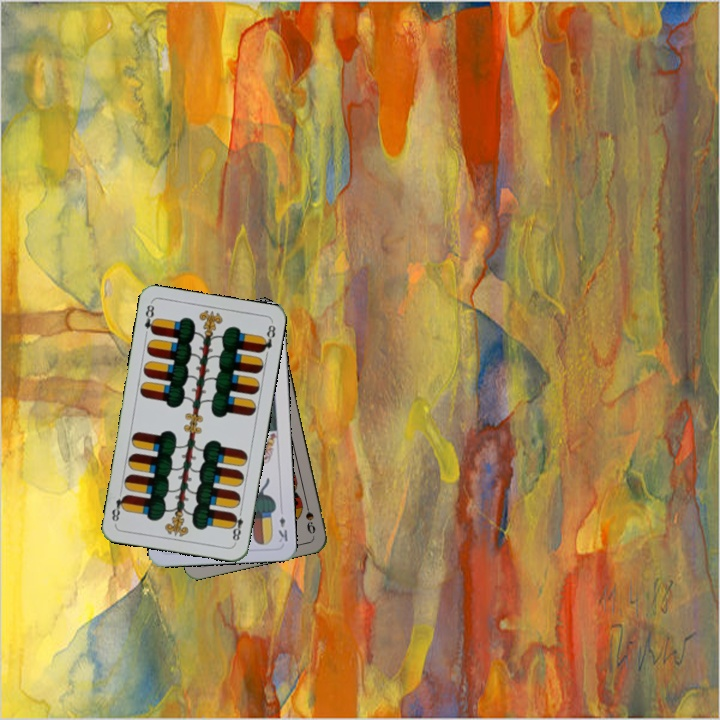E8: (227, 505, 246, 546), (140, 299, 159, 340)
EK: (274, 513, 290, 545)
S9: (301, 497, 318, 536)
